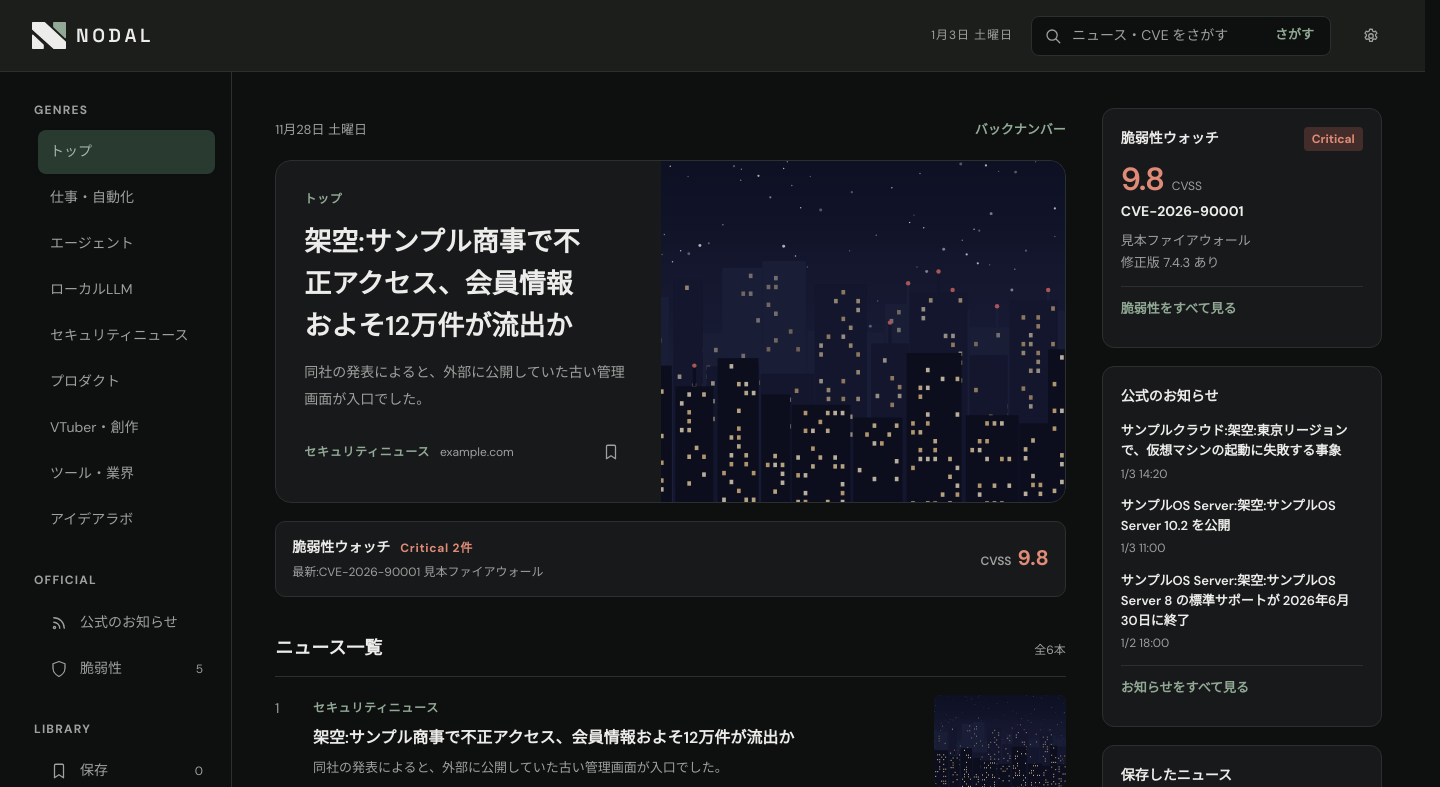
Test: さがす:入力中の候補 › 入力すると分類ごとに見出しを付けて候補を出す。0件の分類は出さない
Type "エージェント" into the dropdown named "検索語".
click(1166, 36); type("エージェント")  # box [1070, 23, 1263, 48]
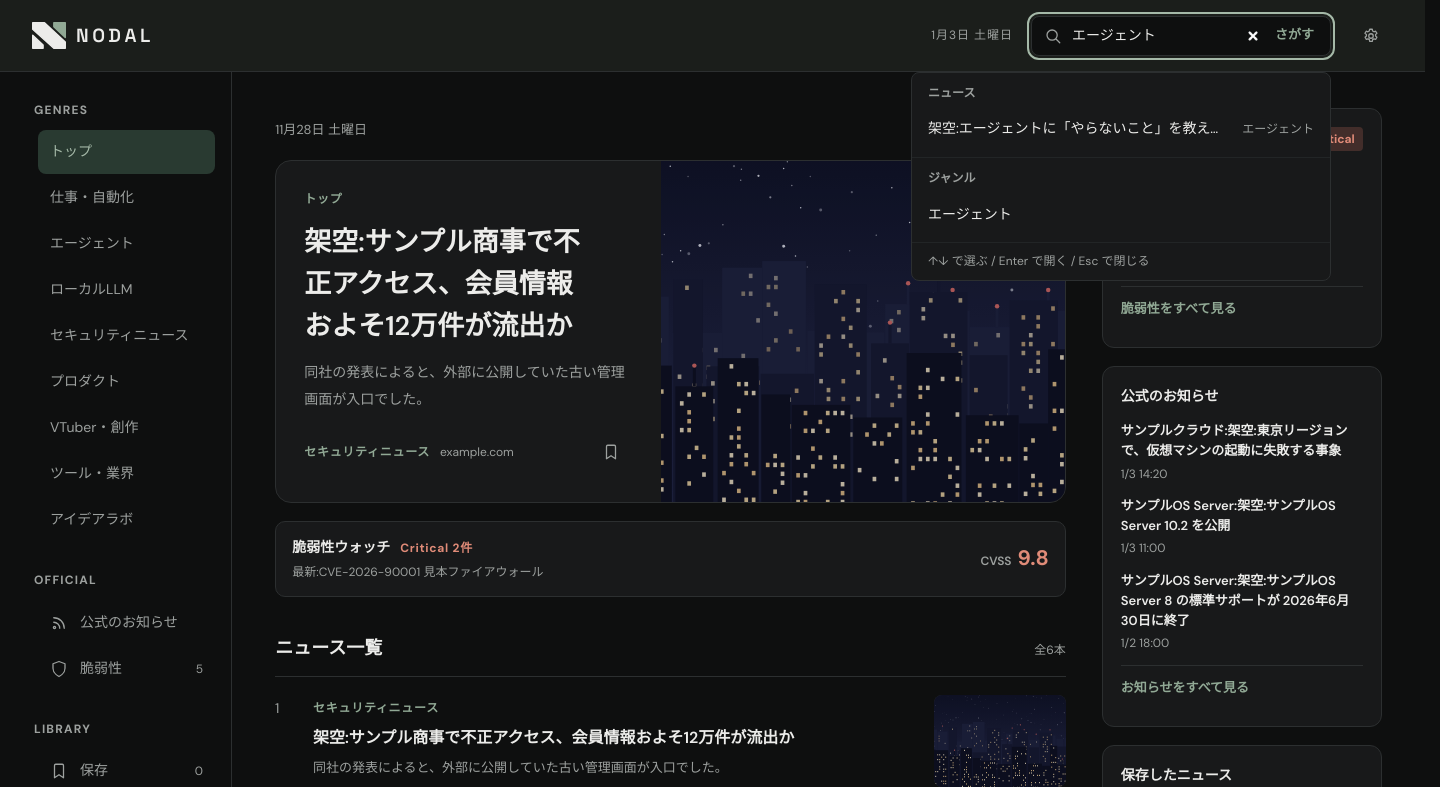
Expected: the dropdown named "検索語" is expanded, [1070, 23, 1263, 48]
Expected: the option "エージェント" is shown, [928, 205, 1012, 223]
